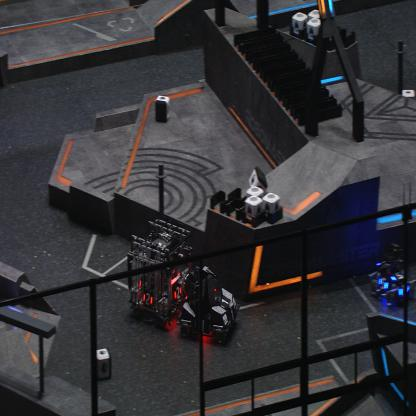car: (128, 217, 192, 325), (178, 264, 238, 344), (368, 240, 412, 309)
